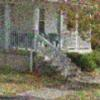stairs: (38, 44, 83, 80)
